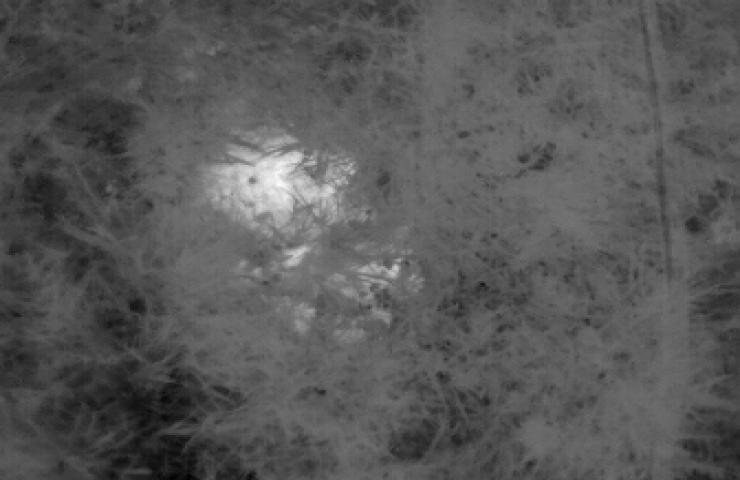landmines: (197, 122, 363, 241)
